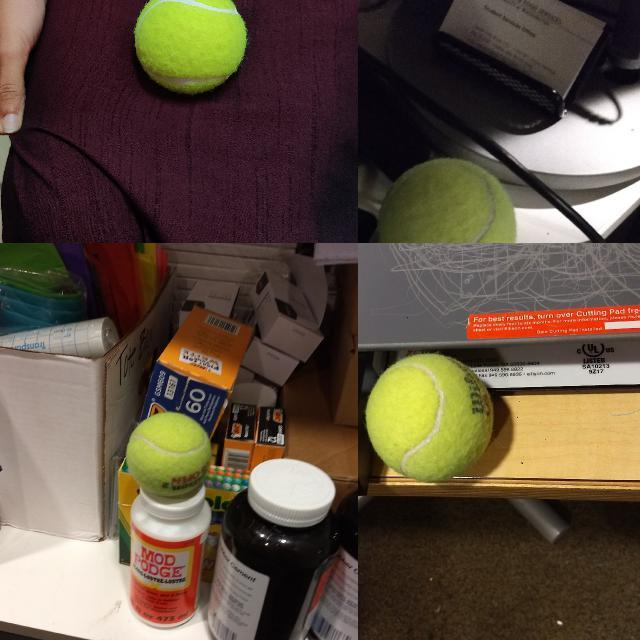tennis-ball: (365, 352, 495, 482), (376, 157, 517, 242), (134, 0, 246, 93), (126, 410, 213, 496)
